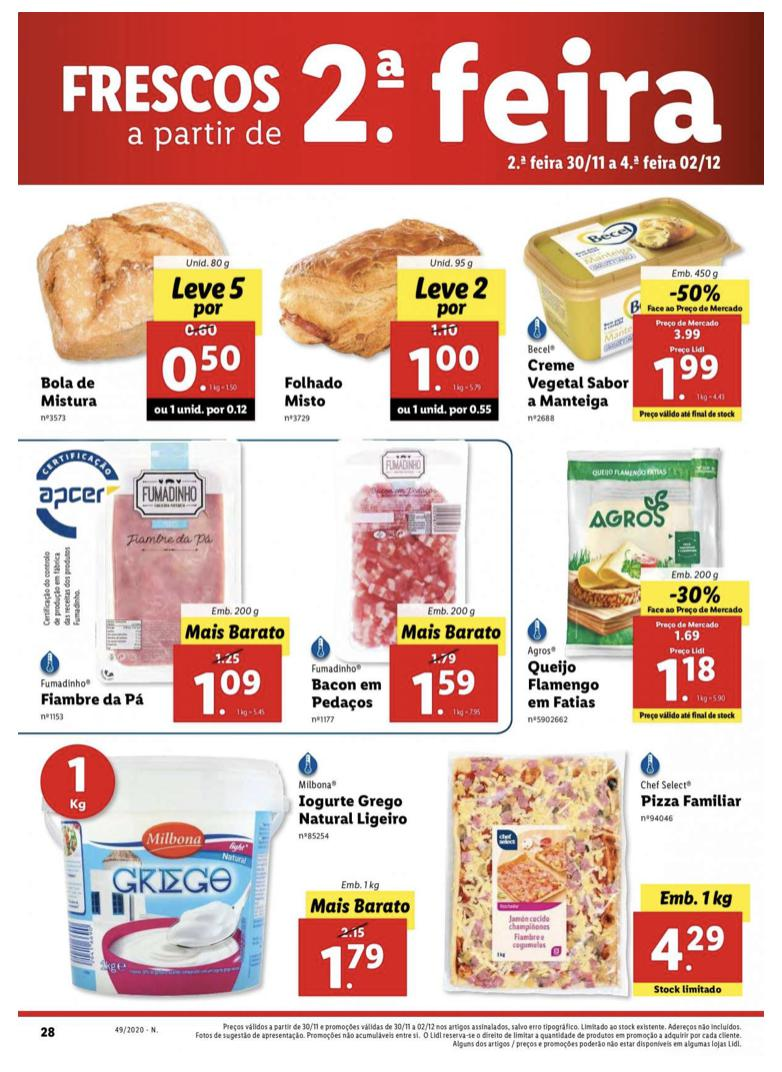name: (523, 356, 631, 415), (523, 657, 606, 712), (296, 791, 411, 829), (640, 788, 747, 816), (308, 676, 388, 713), (278, 373, 351, 412), (36, 373, 106, 412), (39, 688, 150, 707)
price: (163, 341, 246, 392), (646, 924, 723, 976), (406, 343, 486, 393), (192, 661, 264, 715), (648, 352, 724, 403), (655, 652, 726, 704), (412, 665, 476, 719), (319, 939, 383, 989)
product: (12, 743, 416, 997), (438, 739, 764, 1003), (23, 437, 290, 724), (516, 435, 756, 735), (311, 444, 515, 735), (23, 189, 275, 424), (274, 192, 510, 432), (514, 191, 758, 421)
promotion: (664, 280, 724, 303)
